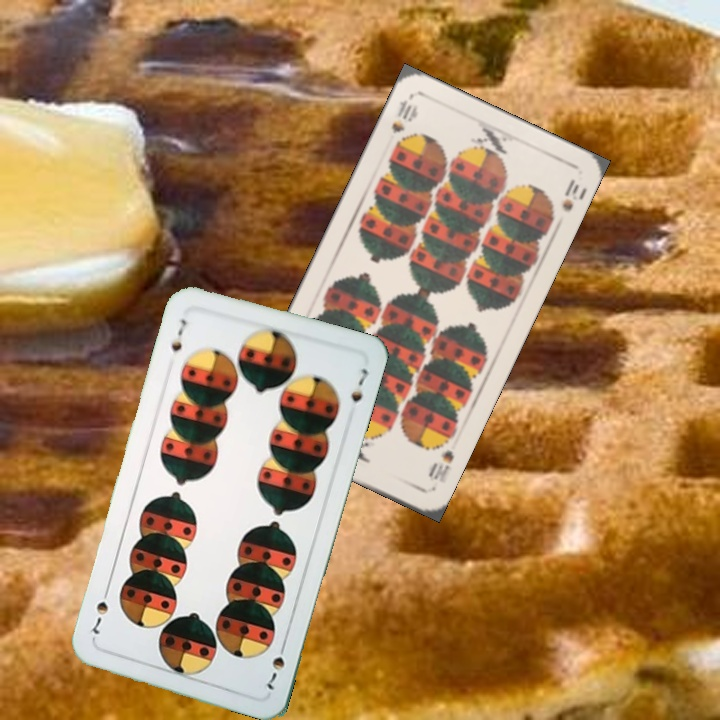S10: (387, 93, 420, 137), (424, 446, 457, 486)
S7: (262, 637, 289, 695), (167, 315, 190, 355)
